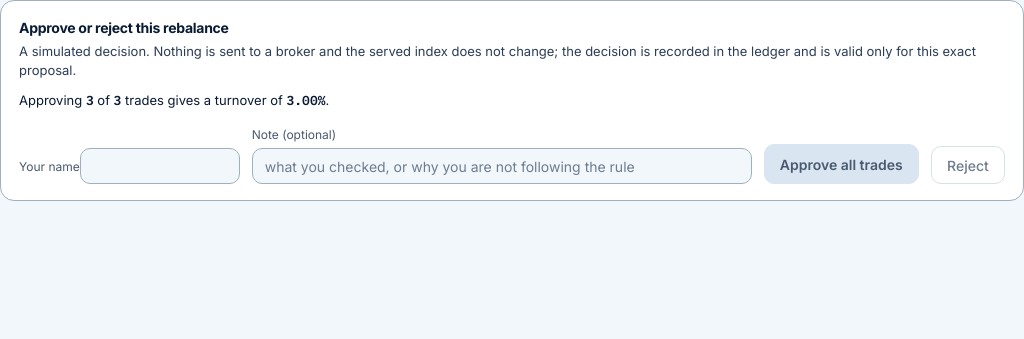
it: DecisionBoard + ApprovalBar › reports a refused decision (a changed proposal) without pretending it was saved
Step 1. Type "A" into the field labelled "Your name" → (160,166), box [80,148,240,184]
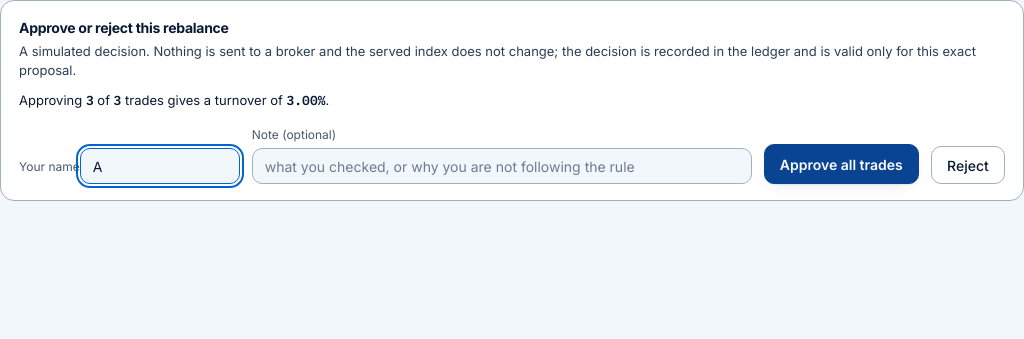
Step 2. Click the button "Approve all trades" → (841,164), box [764,144,919,184]
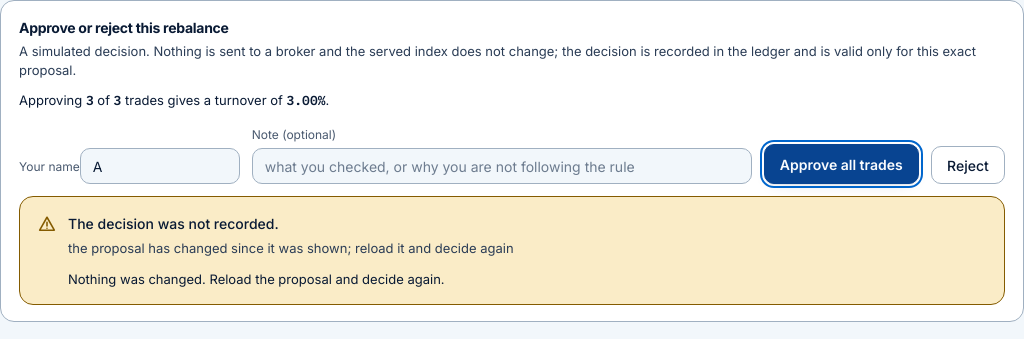
Now the text "The decision was not recorded." is shown, box [68,215,279,232]
Now the text "proposal has changed" is shown, box [68,240,514,256]
